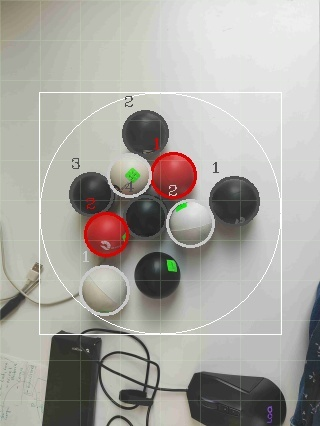Pelota blanca: (98, 334, 161, 411), (79, 262, 129, 318), (164, 198, 217, 248), (108, 150, 153, 198), (145, 391, 198, 425), (103, 414, 134, 425)
Pelota negra: (185, 371, 286, 425), (207, 174, 259, 227), (132, 249, 182, 299), (121, 108, 169, 158), (68, 169, 113, 216), (124, 196, 166, 238)
Pelota roja: (148, 150, 198, 200), (82, 209, 131, 259)
